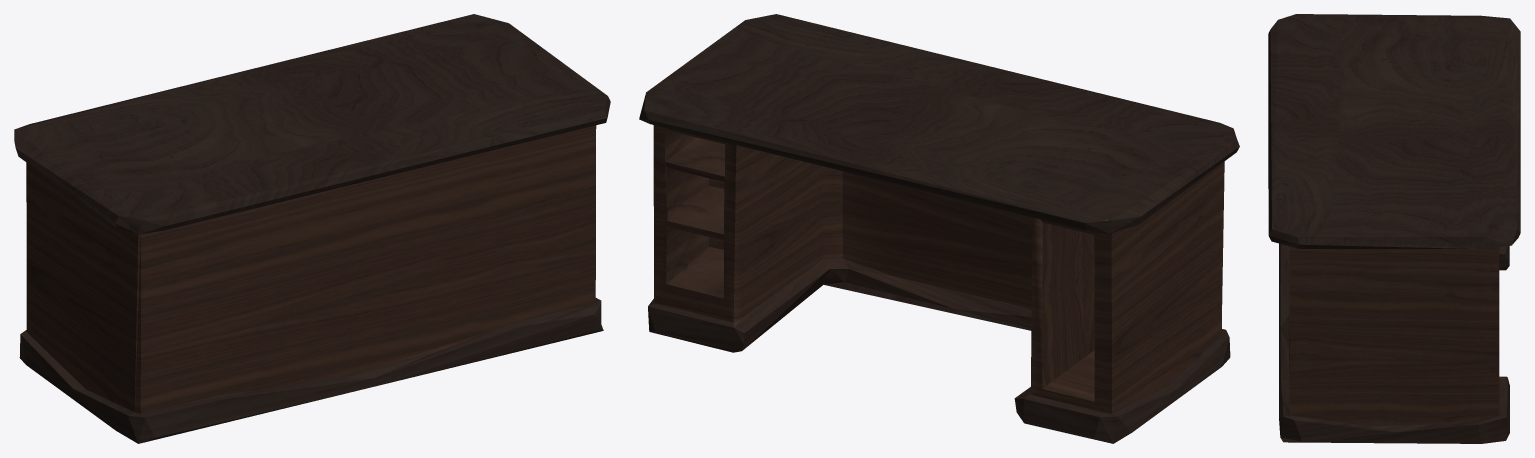
File: guildDesk.glb
3 renders of one model, left to right at view 1: azimuth 30°, elevation 25°; view 2: azimuth 150°, elevation 25°; view 3: azimuth 270°, elevation 25°, orthographic. The views are drawn at different scales.
Visible parts, largest first — view 1: guildDesk; view 2: guildDesk; view 3: guildDesk.
Part boxes in pixels (bbox=[...]): guildDesk: bbox=[14, 14, 610, 443]; guildDesk: bbox=[639, 14, 1239, 443]; guildDesk: bbox=[1268, 14, 1520, 443].
Bounding box in the file's own units: 2.66 × 1.16 × 1.25.
Materials: 1 (1 with a texture image).
